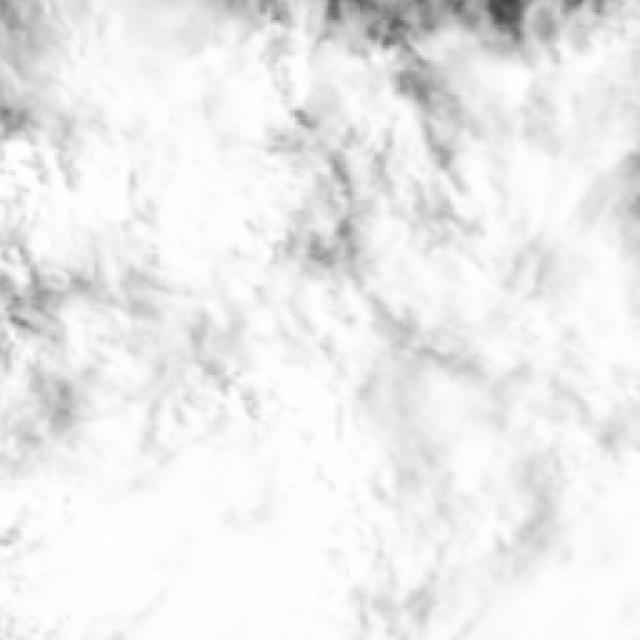CB: (70, 449, 348, 640), (462, 437, 639, 640), (97, 60, 261, 249)
